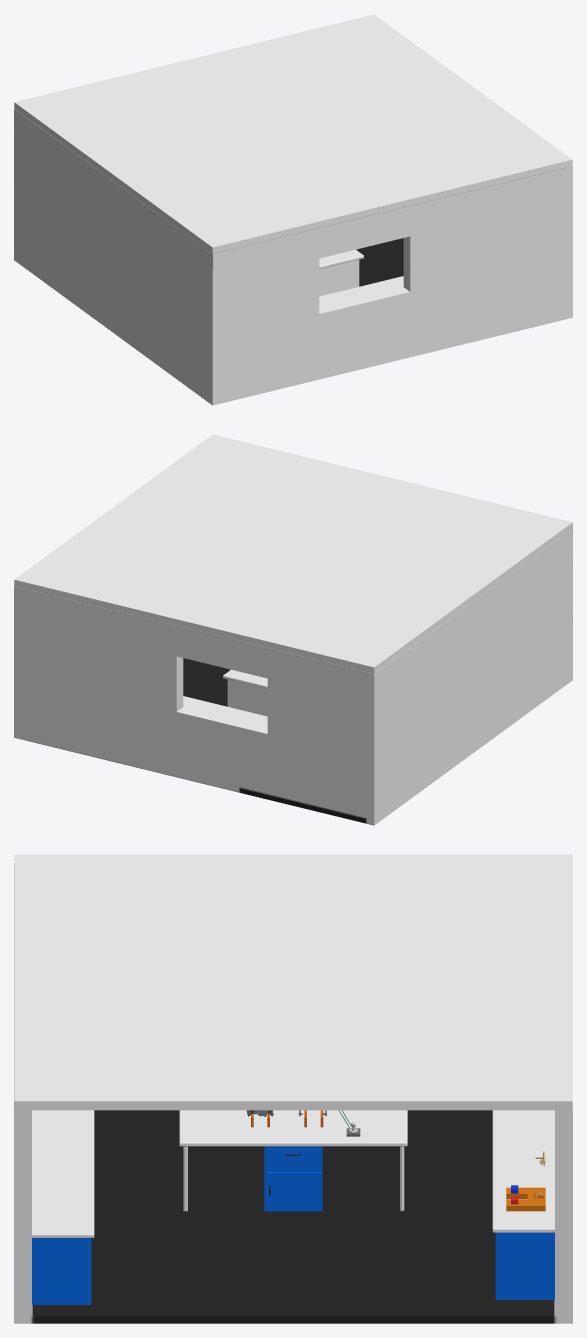
Rendered from House.fbx.
The picture shows the model from 3 angles, top to bottom: view 1: azimuth 30°, elevation 25°; view 2: azimuth 150°, elevation 25°; view 3: azimuth 270°, elevation 25°; orthographic projection. The views are drawn at different scales.
Visible parts, largest first — view 1: house, table, left side table; view 2: house, table, right side table; view 3: house, table, left side table, right side table, explanation stand.
Boxes of the visible parts, left/top/right/bottom form: house: left=14, top=14, right=572, bottom=405; table: left=319, top=249, right=363, bottom=296; left side table: left=319, top=276, right=403, bottom=307; house: left=14, top=434, right=572, bottom=825; table: left=223, top=669, right=267, bottom=716; right side table: left=183, top=696, right=267, bottom=727; house: left=14, top=854, right=572, bottom=1323; table: left=179, top=1110, right=407, bottom=1211; left side table: left=32, top=1110, right=94, bottom=1304; right side table: left=492, top=1110, right=554, bottom=1299; explanation stand: left=506, top=1187, right=545, bottom=1211.
Bounding box in the file's own units: 1098 × 460 × 1048.
